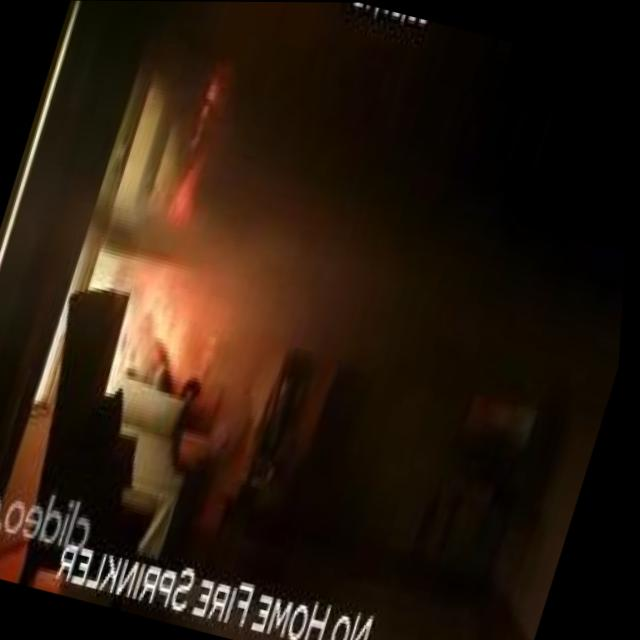fire: (115, 265, 215, 385), (168, 157, 209, 232), (200, 80, 225, 112)
